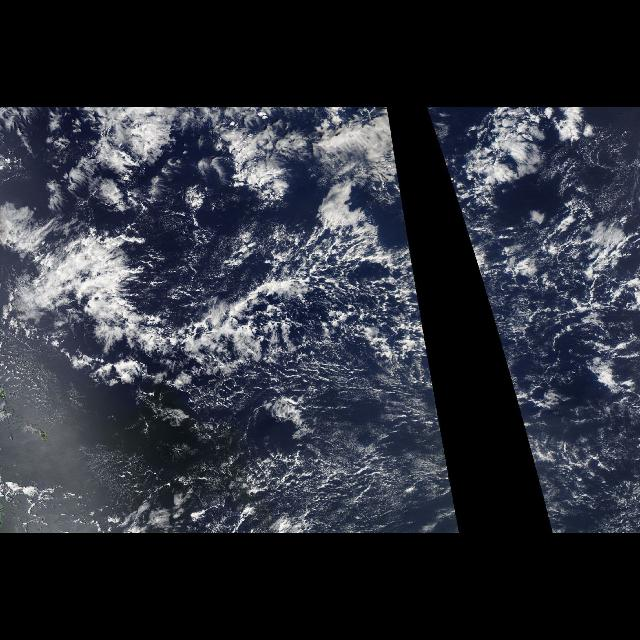Fish: (18, 200, 306, 416)
Gravel: (461, 223, 639, 407), (156, 450, 450, 528), (312, 223, 436, 407)
